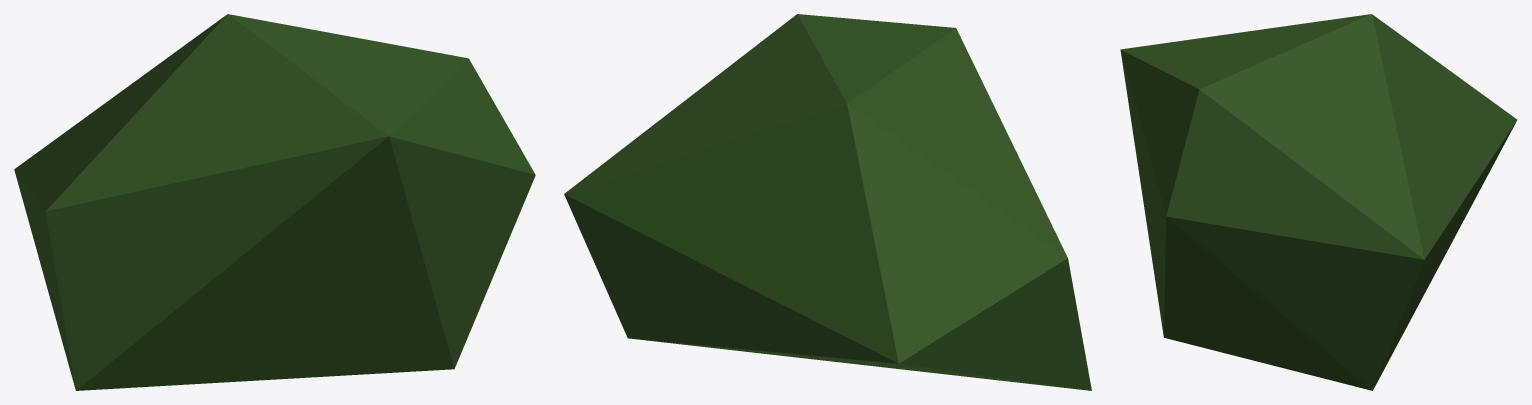
Rendered from SM_bush_02.fbx.
3 renders of one model, left to right at view 1: azimuth 30°, elevation 25°; view 2: azimuth 150°, elevation 25°; view 3: azimuth 270°, elevation 25°, orthographic. The views are drawn at different scales.
Visible parts, largest first — view 1: Object133; view 2: Object133; view 3: Object133.
Part boxes in pixels (<box>): Object133: <box>14,14,535,390</box>; Object133: <box>564,14,1091,390</box>; Object133: <box>1120,14,1517,390</box>.
Size of the model in its own units: 50.41 by 30.6 by 40.05.
